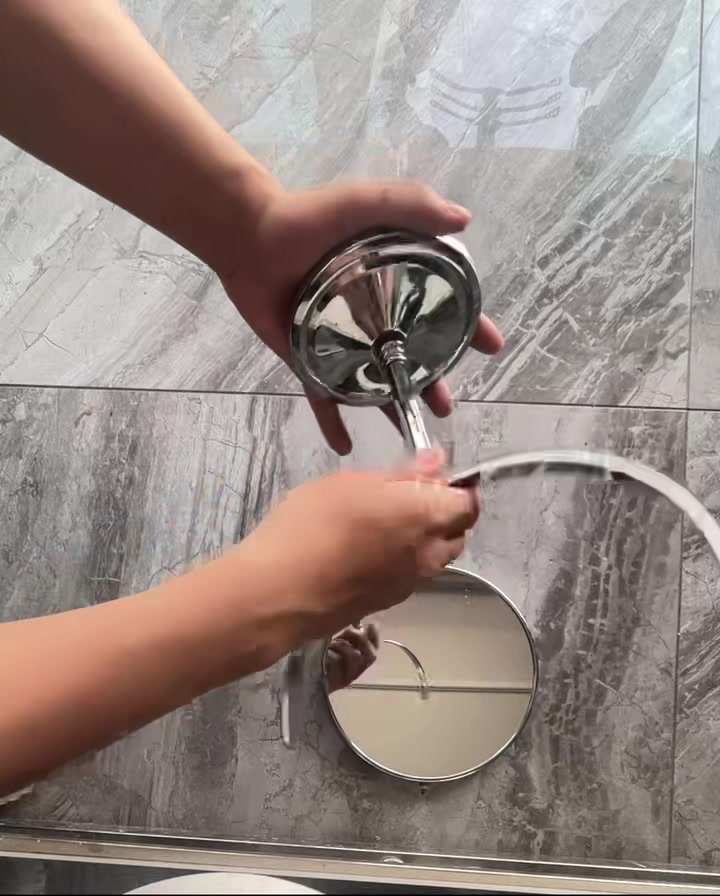base: (302, 210, 475, 376)
frame: (307, 340, 710, 742)
mirror: (298, 551, 530, 803)
